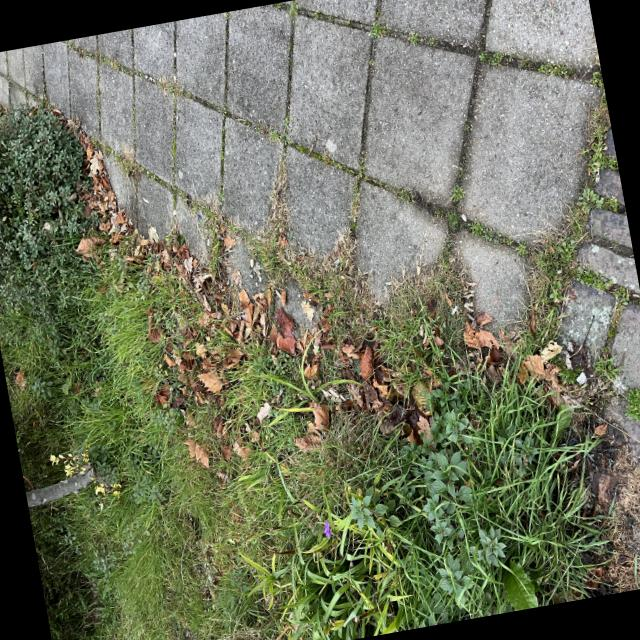pavement: (362, 276, 489, 381), (375, 528, 469, 632), (398, 422, 483, 516), (377, 169, 428, 212), (495, 564, 532, 613)
plants: (0, 0, 398, 640)
weed: (234, 144, 593, 616)
